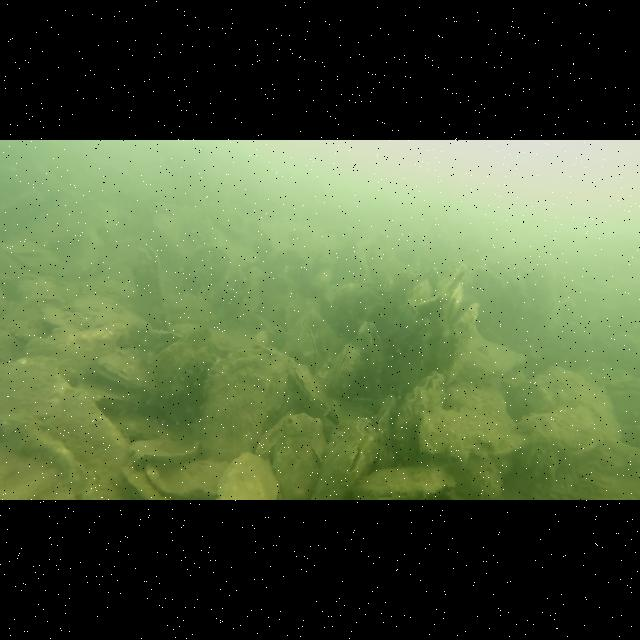Oyster-Closed: (0, 354, 132, 500), (194, 348, 296, 462), (518, 365, 620, 449), (541, 436, 640, 499), (260, 414, 328, 501), (417, 404, 518, 462), (519, 401, 605, 464), (150, 324, 218, 400), (357, 464, 455, 500), (141, 462, 231, 501), (214, 454, 280, 500), (127, 437, 201, 463), (372, 393, 396, 465)
Oyster-Open: (316, 416, 380, 500), (126, 245, 172, 332), (392, 371, 446, 445), (441, 279, 481, 376), (282, 361, 340, 424), (463, 338, 525, 387), (98, 345, 156, 391), (356, 320, 384, 372), (294, 320, 320, 368), (332, 343, 360, 381)
